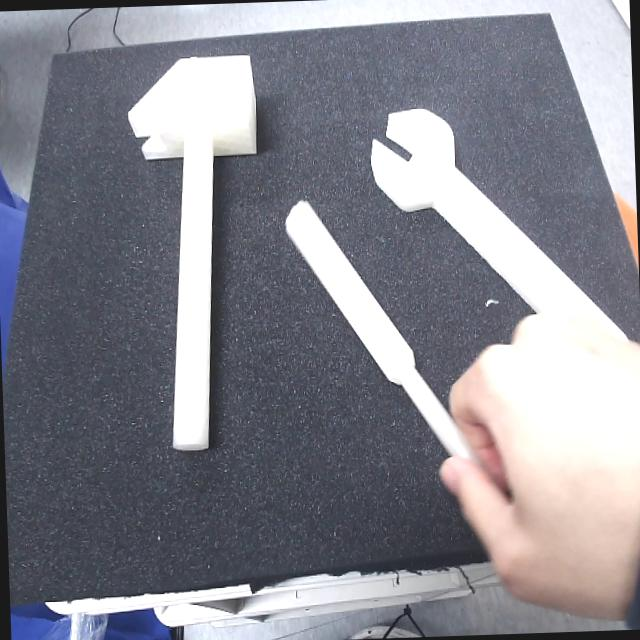Hammer: (127, 57, 257, 453)
